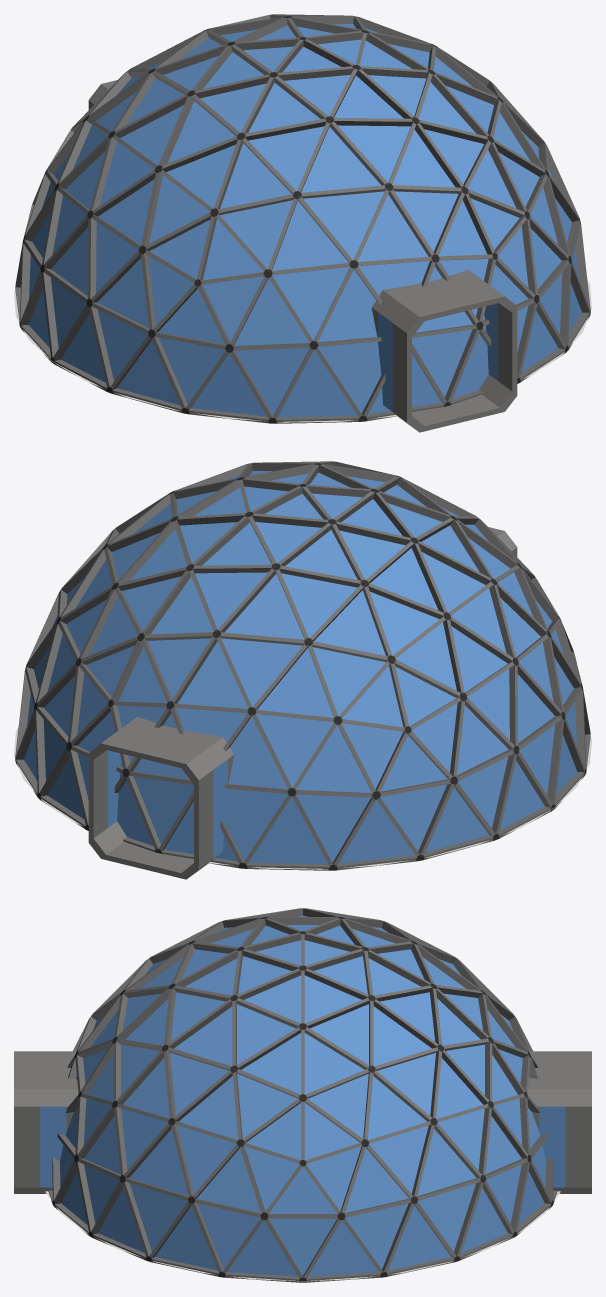
File: dome_2way.fbx
3 views of the same model, one above another, from view 1: azimuth 30°, elevation 25°; view 2: azimuth 150°, elevation 25°; view 3: azimuth 270°, elevation 25° (orthographic). The views are drawn at different scales.
Parts seen in each view (by area): view 1: Dome Glass.001, Dome Steel.001, Dome, TubeStraight.004, Dome Full.001, Ground.001; view 2: Dome Glass.001, Dome Steel.001, Dome, TubeStraight.003, Dome Full.001, Ground.001; view 3: Dome Glass.001, Dome Steel.001, Dome, TubeStraight.003, TubeStraight.004, Dome Full.001, Ground.001.
Part boxes in pixels (<box>): Dome Glass.001: <box>28,24,581,417</box>; Dome Steel.001: <box>15,14,590,423</box>; Dome: <box>15,14,590,429</box>; TubeStraight.004: <box>371,269,517,432</box>; Dome Full.001: <box>317,259,534,420</box>; Ground.001: <box>14,280,591,422</box>; Dome Glass.001: <box>24,471,577,864</box>; Dome Steel.001: <box>15,461,590,870</box>; Dome: <box>15,461,590,879</box>; TubeStraight.003: <box>88,716,234,879</box>; Dome Full.001: <box>72,706,287,867</box>; Ground.001: <box>14,727,591,869</box>; Dome Glass.001: <box>60,915,545,1276</box>; Dome Steel.001: <box>49,908,556,1282</box>; Dome: <box>15,908,591,1280</box>; TubeStraight.003: <box>527,1051,591,1193</box>; TubeStraight.004: <box>14,1051,78,1193</box>; Dome Full.001: <box>48,1023,557,1203</box>; Ground.001: <box>45,1191,560,1281</box>.
Size of the model in its own units: 2000 by 1018 by 2200.
